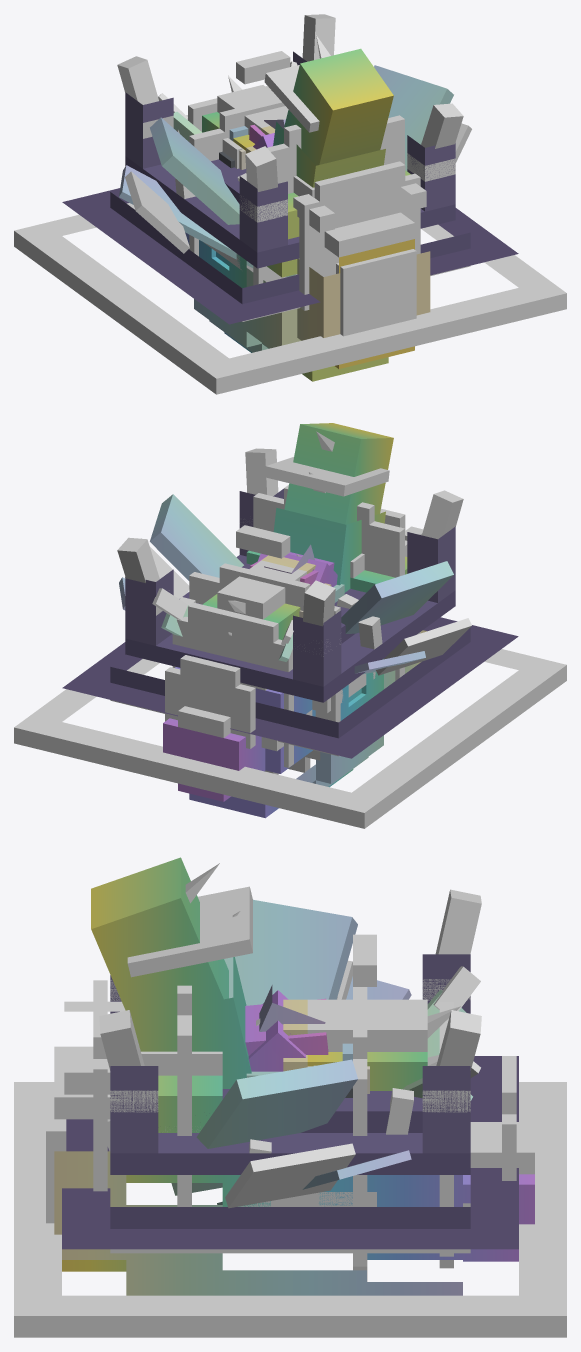
Rendered from Trainer12.glb.
The picture shows the model from 3 angles, top to bottom: view 1: azimuth 30°, elevation 25°; view 2: azimuth 150°, elevation 25°; view 3: azimuth 270°, elevation 25°; orthographic projection. The views are drawn at different scales.
Parts seen in each view (by area): view 1: Stand_Glow, Body, Stand, Body_Glow, Wings, Head, Wings_Glow, Head_Glow; view 2: Stand, Stand_Glow, Body_Glow, Body, Wings, Head, Wings_Glow, Head_Glow, Orbit, T1; view 3: Stand_Glow, Body, Stand, Body_Glow, Wings, Head, Wings_Glow, T1, T2, Orbit, Head_Glow, Fin.
Boxes of the visible parts, x1,y1,x2,y2 form: Stand_Glow: (14, 14, 566, 394); Body: (185, 35, 430, 381); Stand: (62, 51, 518, 324); Body_Glow: (177, 51, 426, 310); Wings: (119, 65, 453, 277); Head: (173, 75, 288, 169); Wings_Glow: (125, 123, 471, 253); Head_Glow: (158, 61, 297, 168); Stand: (62, 488, 518, 758); Stand_Glow: (14, 448, 566, 828); Body_Glow: (165, 457, 423, 774); Body: (163, 423, 426, 818); Wings: (119, 494, 453, 674); Head: (161, 555, 331, 661); Wings_Glow: (125, 547, 471, 675); Head_Glow: (152, 588, 293, 645); Orbit: (180, 597, 382, 649); T1: (258, 553, 337, 586); Stand_Glow: (14, 889, 566, 1337); Body: (46, 857, 534, 1295); Stand: (62, 954, 518, 1249); Body_Glow: (64, 886, 516, 1281); Wings: (171, 899, 411, 1204); Head: (283, 990, 472, 1100); Wings_Glow: (225, 960, 355, 1208); T1: (248, 990, 305, 1071); T2: (245, 998, 328, 1055); Orbit: (249, 997, 413, 1153); Head_Glow: (107, 966, 480, 1151); Fin: (259, 985, 325, 1031).
Size of the model in its own units: 9.2 by 8.24 by 9.2.
